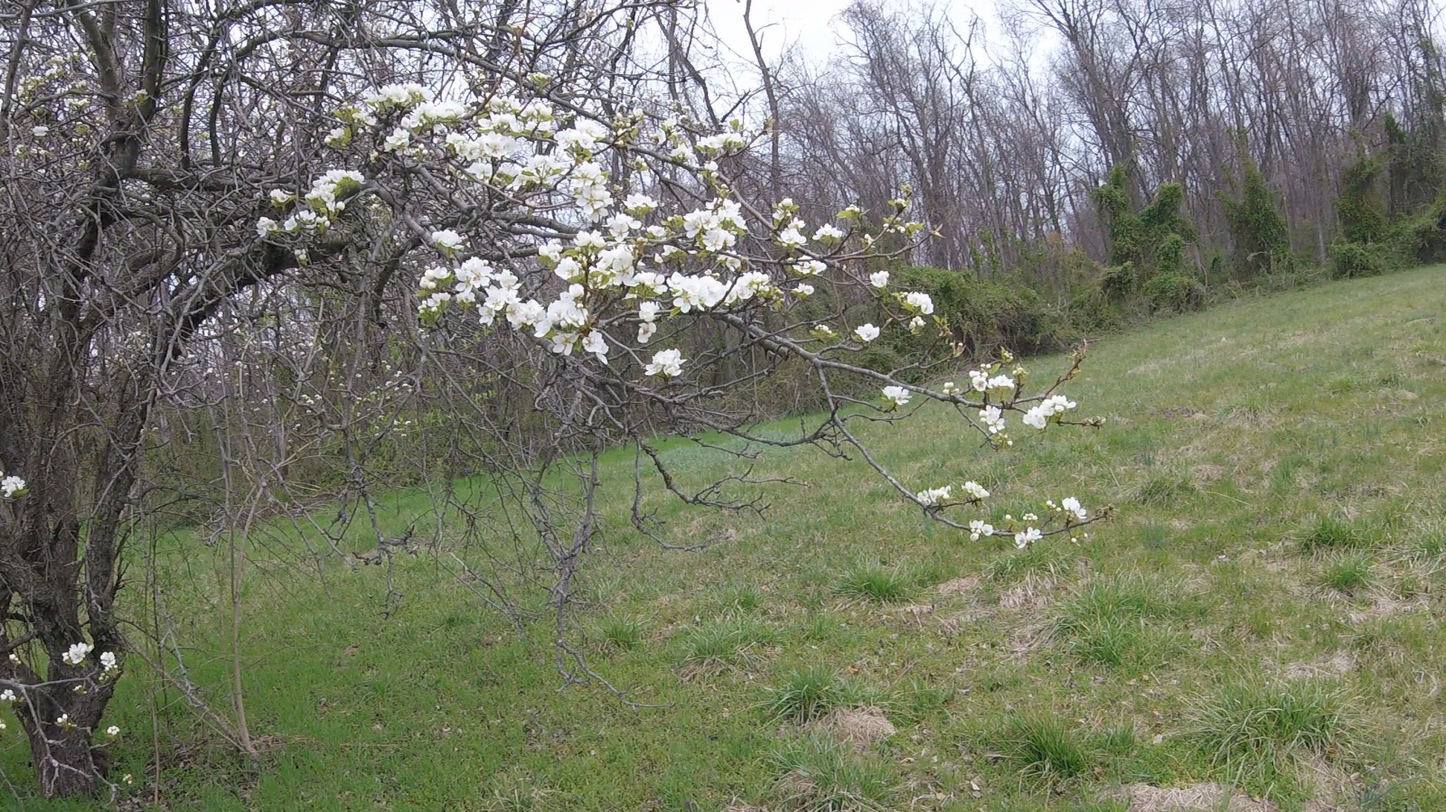flower: (434, 95, 616, 192), (451, 257, 589, 338), (574, 211, 669, 294), (359, 80, 477, 128), (683, 199, 750, 252), (567, 161, 615, 224), (305, 167, 367, 212), (667, 272, 733, 313), (626, 302, 675, 343), (536, 238, 583, 280), (1023, 396, 1077, 429), (725, 270, 773, 306), (695, 126, 752, 149), (668, 135, 704, 171), (644, 349, 688, 377), (384, 126, 420, 156), (582, 327, 609, 365), (777, 216, 809, 247), (970, 371, 1015, 392), (548, 330, 584, 356), (892, 292, 934, 314), (882, 387, 928, 407), (430, 227, 468, 251), (419, 265, 452, 289), (917, 486, 952, 508), (980, 406, 1005, 434), (623, 193, 661, 211), (418, 293, 451, 313), (1016, 527, 1043, 548), (2, 476, 26, 498), (70, 642, 94, 664), (793, 261, 827, 276), (962, 481, 990, 499), (1063, 498, 1087, 519), (970, 521, 994, 542), (717, 254, 742, 274), (812, 224, 843, 240), (775, 198, 795, 222), (855, 323, 880, 341), (257, 218, 278, 238), (870, 271, 892, 289), (647, 127, 667, 145), (323, 128, 345, 144), (909, 316, 926, 335), (336, 195, 357, 210), (270, 189, 292, 203), (662, 245, 687, 257), (647, 225, 669, 238), (101, 652, 116, 671), (662, 112, 678, 128), (791, 284, 814, 295), (299, 210, 316, 223), (284, 216, 297, 231), (0, 690, 16, 701), (704, 162, 718, 173), (706, 198, 718, 210), (108, 726, 120, 736), (655, 254, 664, 264), (58, 714, 68, 723), (416, 144, 424, 150), (791, 206, 800, 211)
